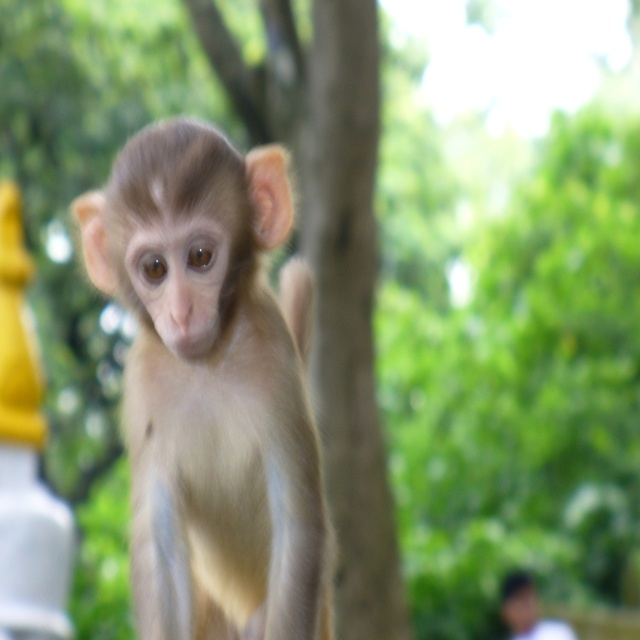Monkey: (69, 116, 342, 639)
